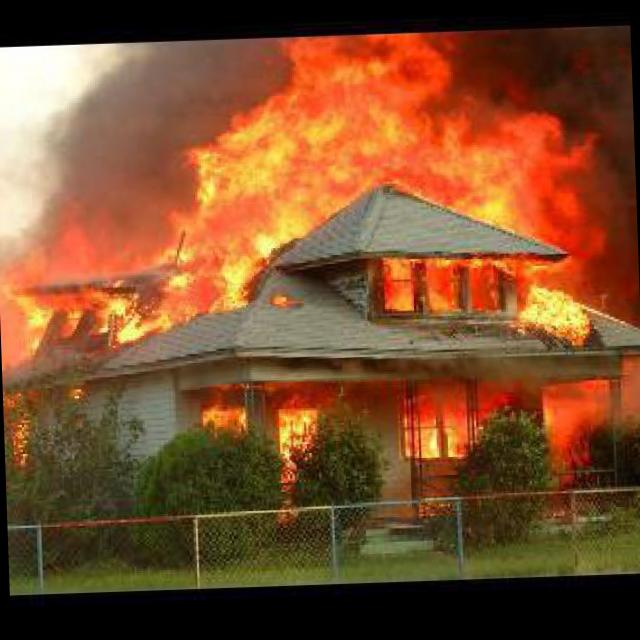fire: (0, 23, 622, 510)
